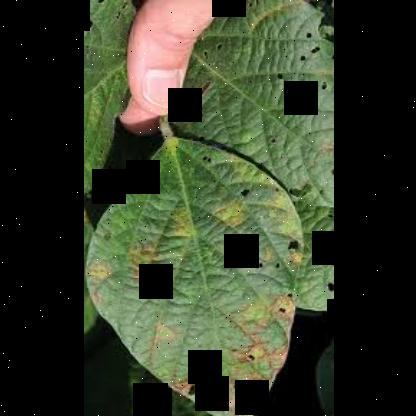agujero: (190, 78, 214, 108), (288, 182, 314, 199), (284, 238, 298, 254), (174, 112, 188, 126), (306, 47, 322, 59), (242, 352, 258, 362), (273, 69, 283, 83), (184, 386, 196, 396), (237, 187, 249, 197), (253, 260, 263, 272), (299, 51, 307, 65), (194, 387, 202, 401), (323, 282, 333, 292), (284, 291, 296, 299), (200, 156, 212, 164), (199, 108, 207, 120), (230, 384, 244, 390), (326, 207, 332, 221), (276, 306, 284, 316), (305, 33, 313, 43), (215, 43, 223, 53), (266, 135, 274, 145), (196, 135, 206, 142), (318, 82, 326, 90), (272, 187, 280, 195), (158, 278, 168, 284), (203, 51, 208, 63), (276, 261, 282, 271), (318, 189, 324, 197), (329, 167, 331, 177)
